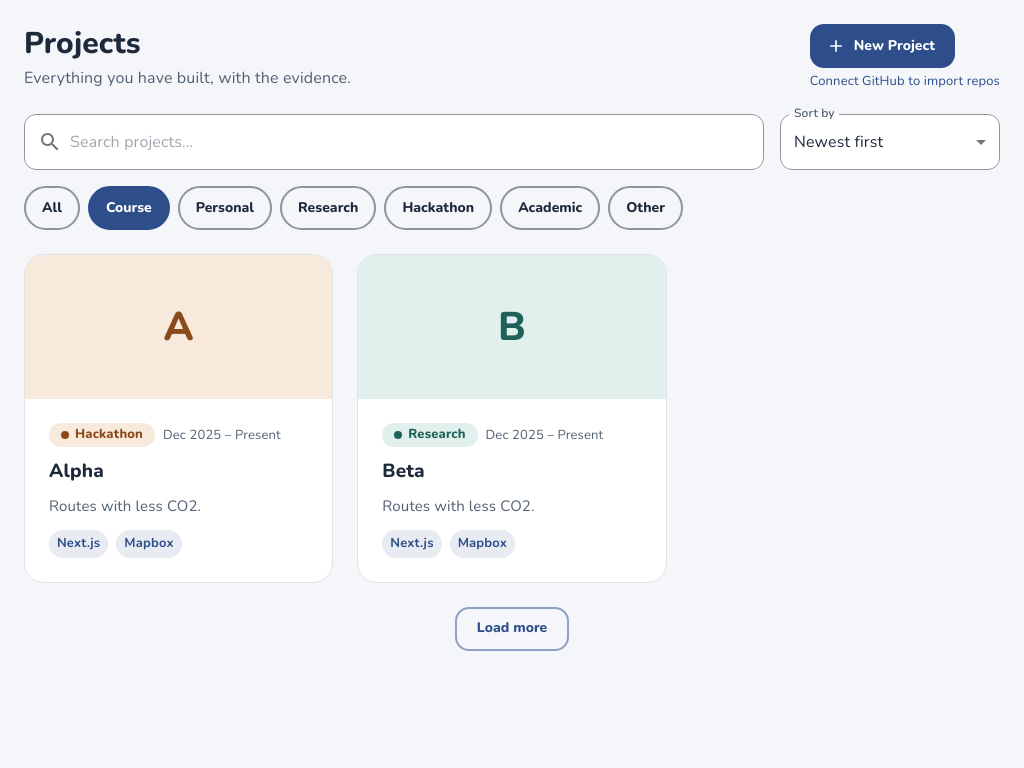
Test: /projects › loads the next page with the filters and the cursor, and appends it
The width and height of the screenshot is (1024, 768).
What coordinates should you click on to do the following:
click the button "Load more"
I would click on:
 (512, 629)
Its box is [455, 607, 569, 651].
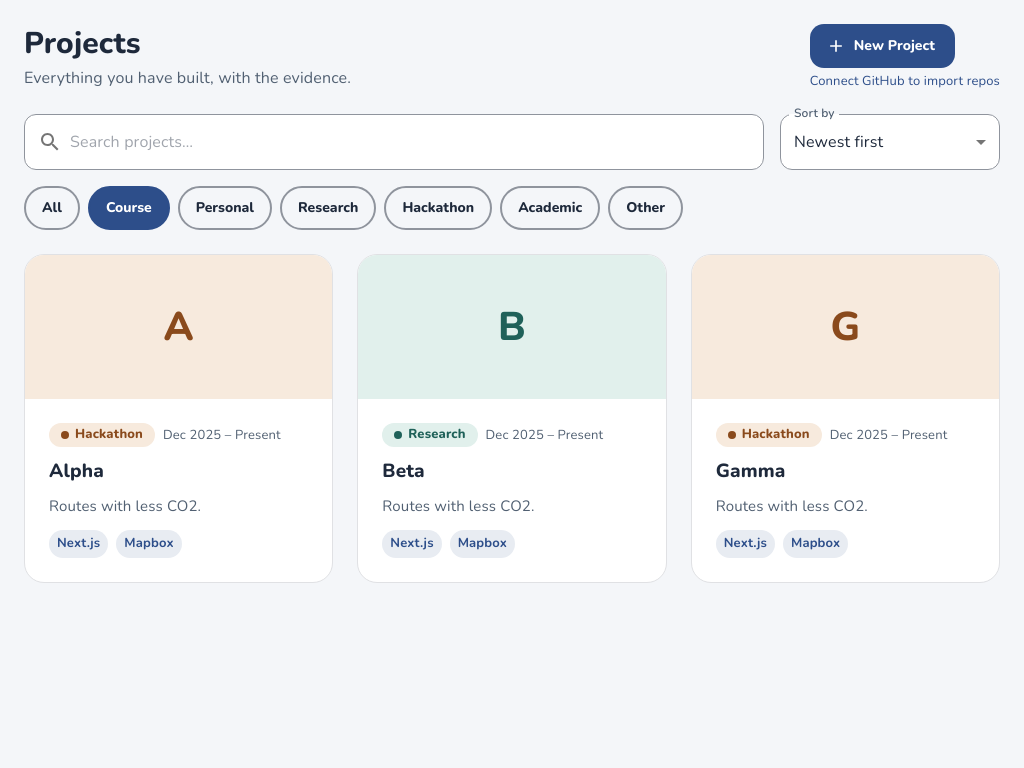
Check: the button "Load more" is gone
